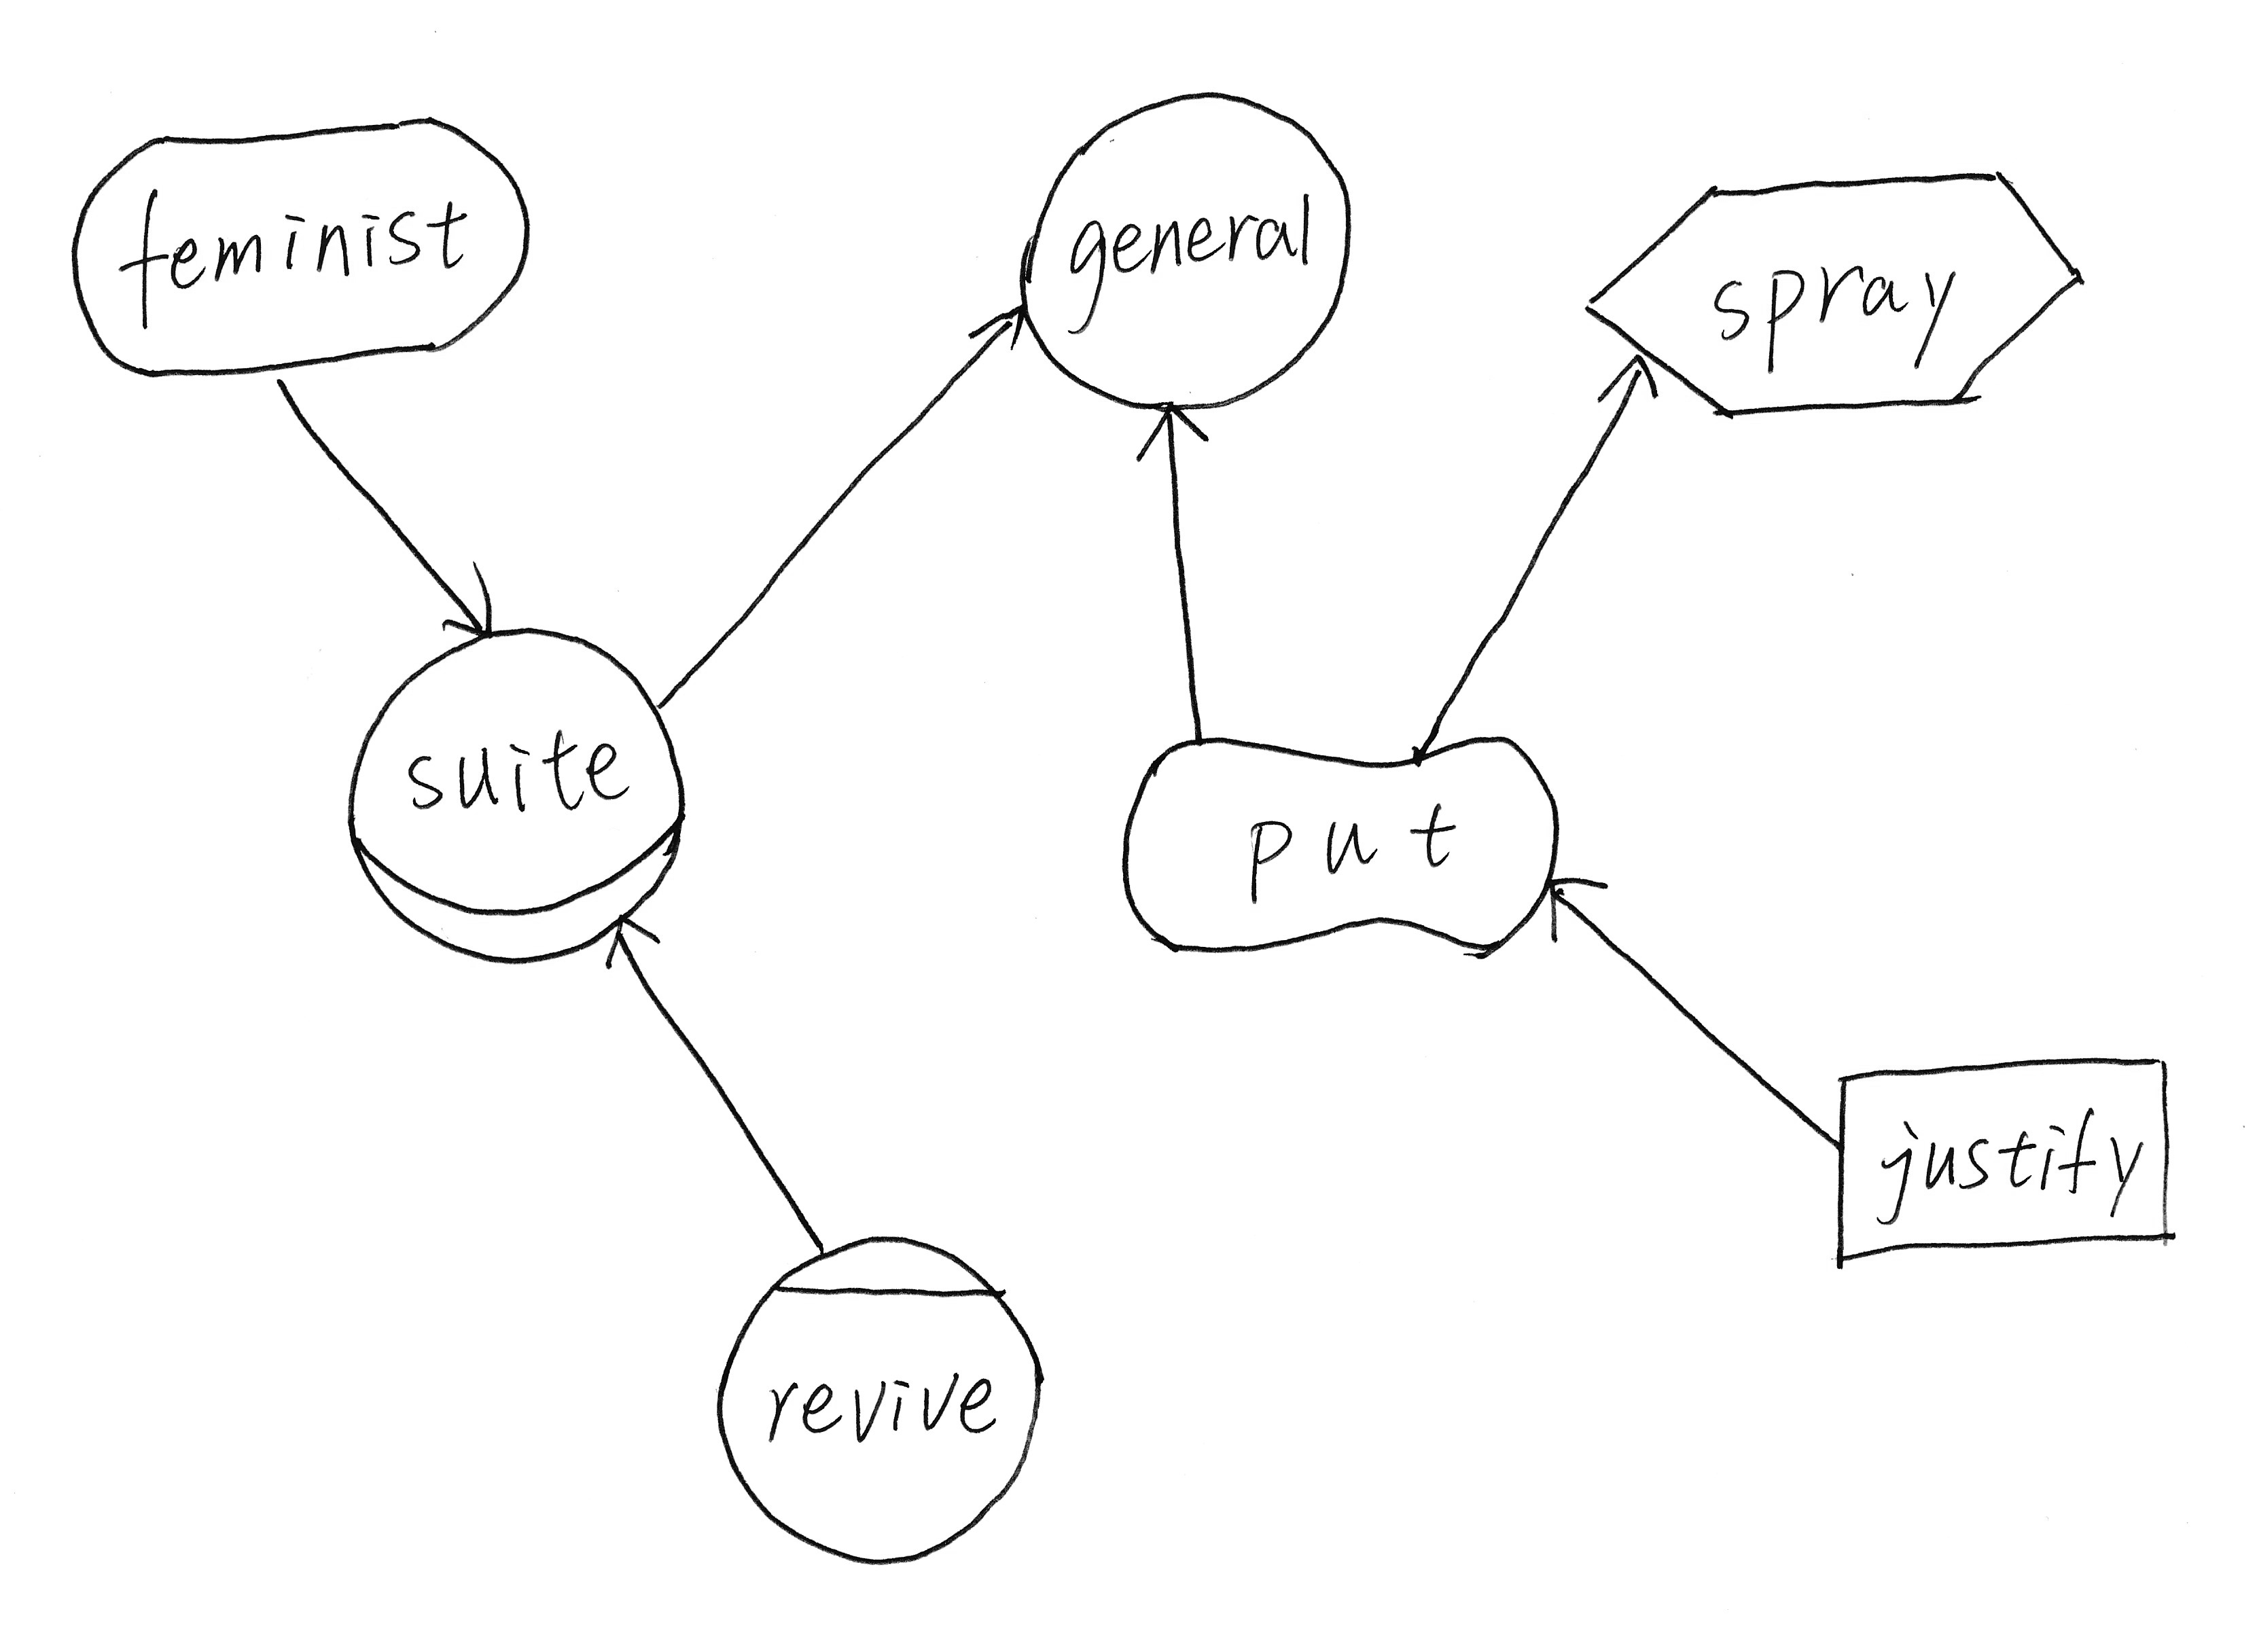actor: (994, 70, 1381, 433)
agent: (694, 1209, 1072, 1580)
arrow: (419, 545, 533, 653), (1530, 855, 1614, 957), (1125, 382, 1209, 469), (1586, 336, 1670, 422), (966, 291, 1041, 370), (598, 900, 662, 985)
goal: (49, 100, 547, 394)
quality: (1097, 715, 1586, 978)
resource: (1814, 1042, 2196, 1296)
role: (326, 613, 708, 983)
task: (1560, 149, 2112, 426)
